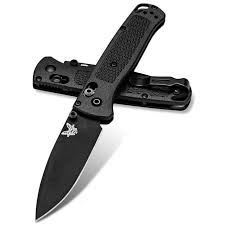knife: (35, 2, 169, 221)
